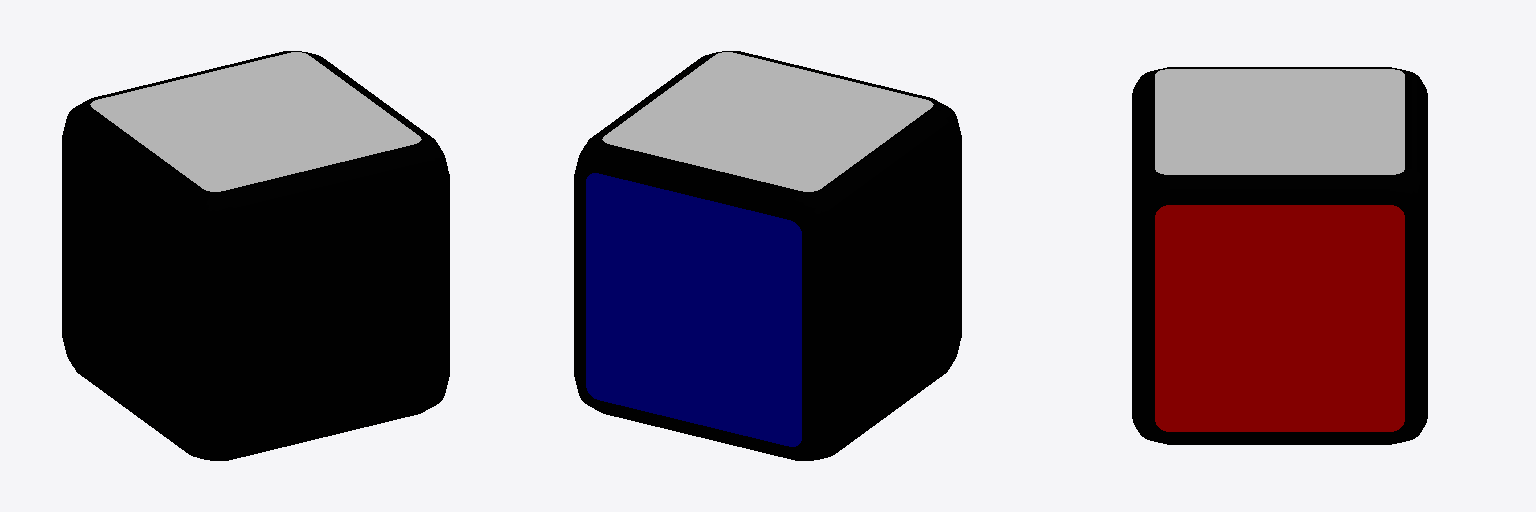
Rendered from corner_brw.obj.
The picture shows the model from 3 angles: view 1: azimuth 30°, elevation 25°; view 2: azimuth 150°, elevation 25°; view 3: azimuth 270°, elevation 25°; orthographic projection.
Visible parts, largest first — view 1: Cube; view 2: Cube; view 3: Cube.
Boxes of the visible parts, <box> form: Cube: <box>62,51,449,460</box>; Cube: <box>574,51,961,460</box>; Cube: <box>1132,67,1427,444</box>.
Bounding box in the file's own units: 2 × 2 × 2.